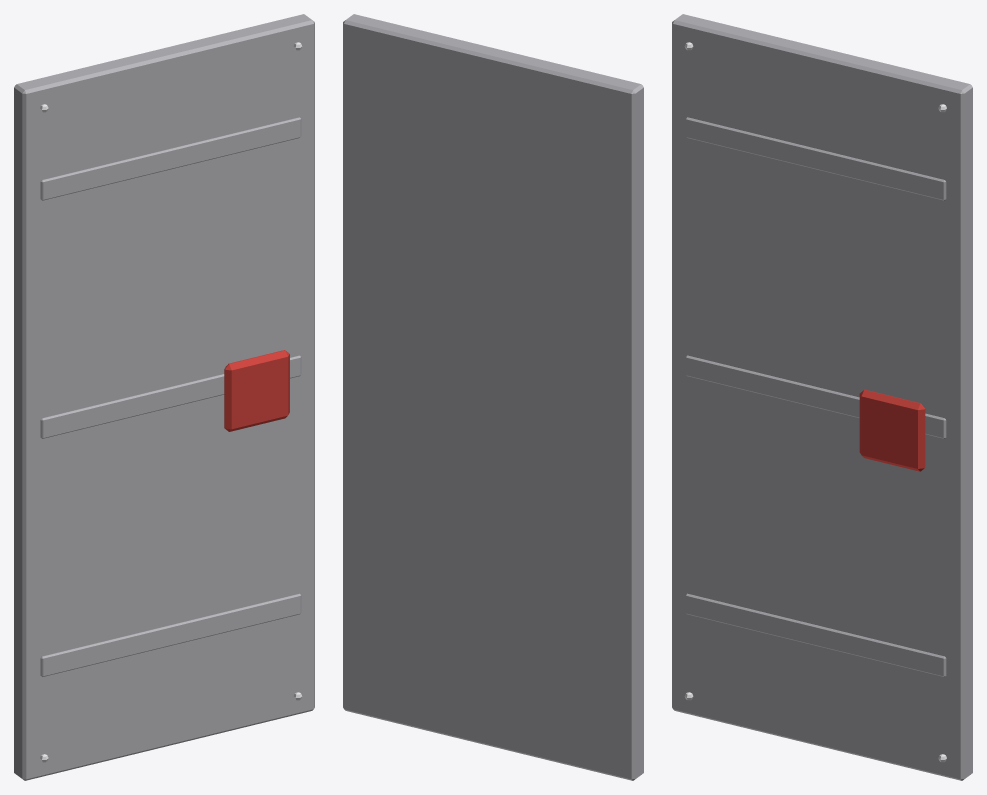
Rendered from metal_door.fbx.
3 views of the same model, side by side, from view 1: azimuth 30°, elevation 25°; view 2: azimuth 150°, elevation 25°; view 3: azimuth 330°, elevation 25° (orthographic).
Visible parts, largest first — view 1: Leaf; view 2: Leaf; view 3: Leaf.
Part boxes in pixels (x1,y1,x2,y2): Leaf: (14,14,314,780); Leaf: (343,14,643,780); Leaf: (672,14,972,780).
Bounding box in the file's own units: 0.9 × 2.03 × 0.105.
